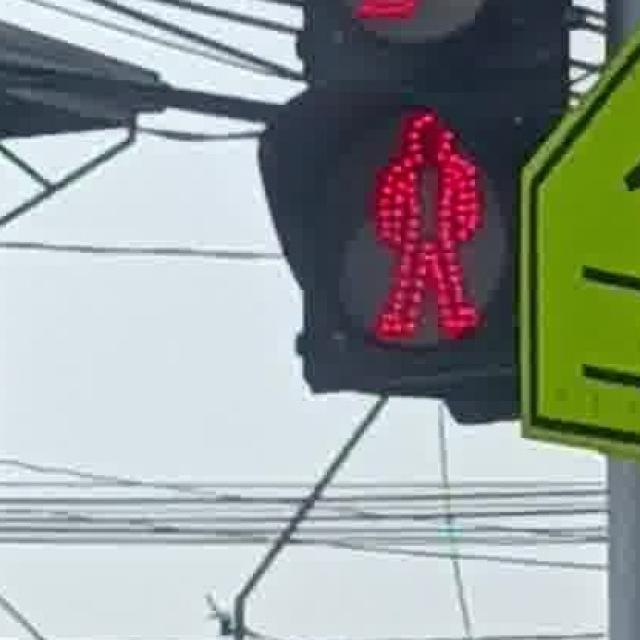red-crossing: (350, 86, 497, 348)
